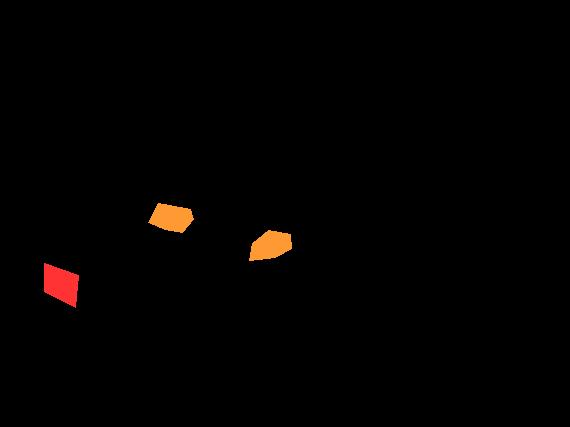Missing part: (44, 263, 78, 307)
Paint chip: (148, 203, 193, 232), (249, 230, 291, 260)
